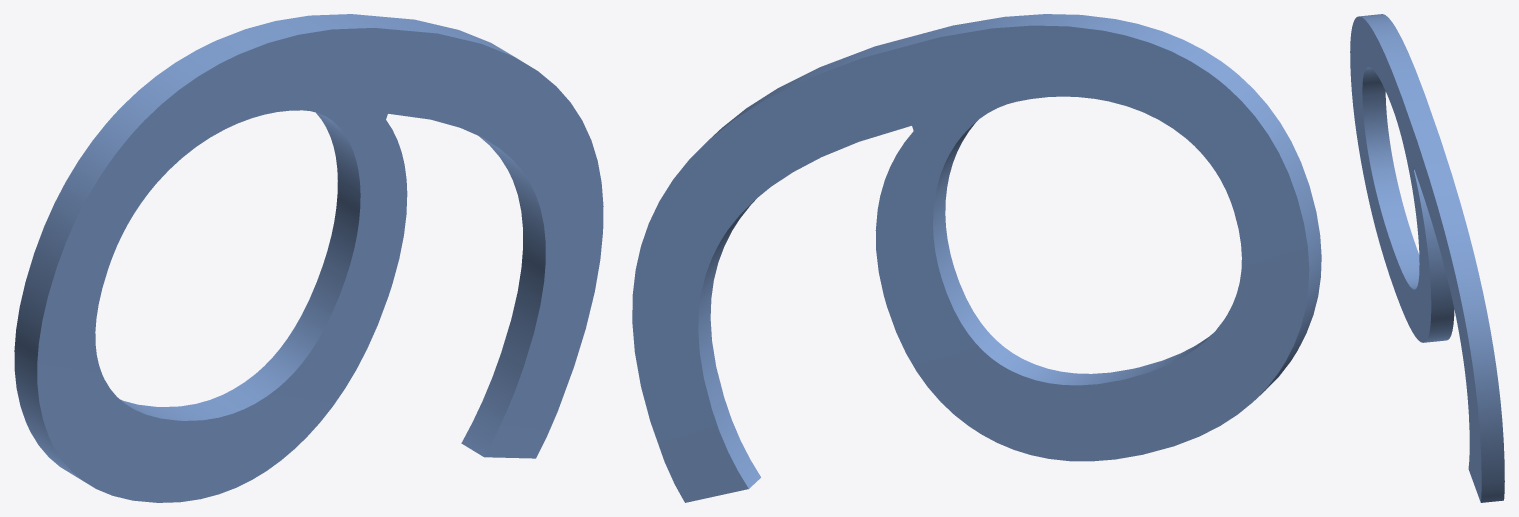
Rendered from New_Number_9.gltf.
3 renders of one model, left to right at view 1: azimuth 30°, elevation 25°; view 2: azimuth 150°, elevation 25°; view 3: azimuth 270°, elevation 25°, orthographic. The views are drawn at different scales.
Parts seen in each view (by area): view 1: Part 126; view 2: Part 126; view 3: Part 126.
Boxes of the visible parts, <box> form: Part 126: <box>14,14,603,502</box>; Part 126: <box>632,14,1321,502</box>; Part 126: <box>1350,14,1504,502</box>.
Size of the model in its own units: 0.00531 by 0.00428 by 0.00169.
